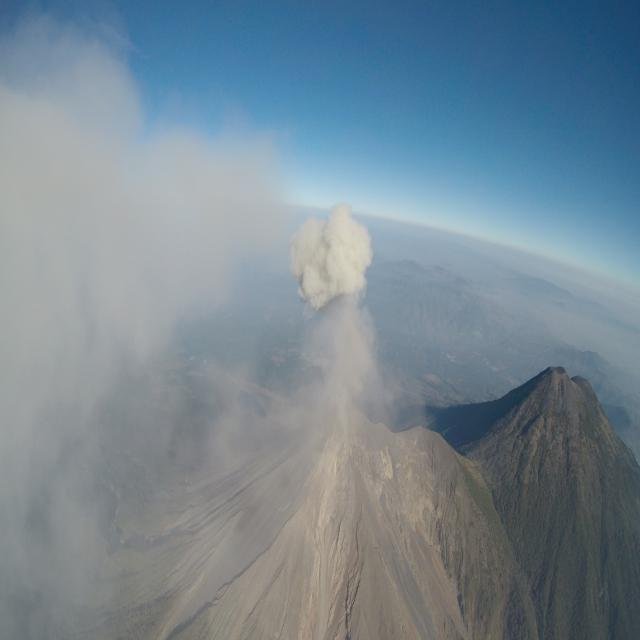Plume: (1, 21, 274, 507), (287, 198, 375, 314)
